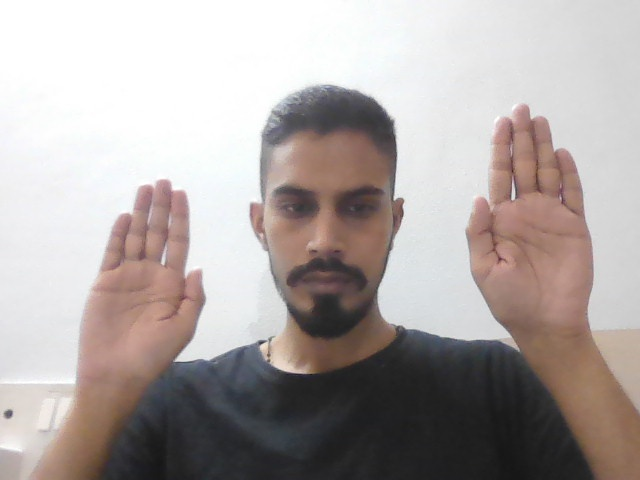Stop: (463, 91, 603, 327)
